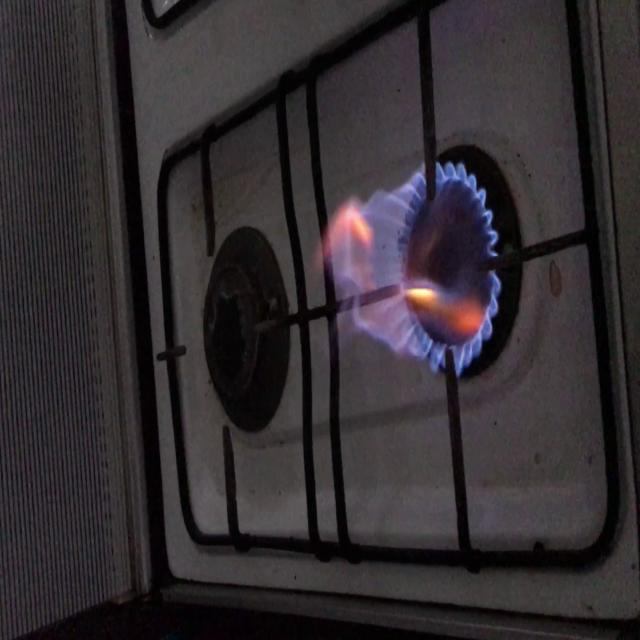smoke: (333, 161, 498, 384)
